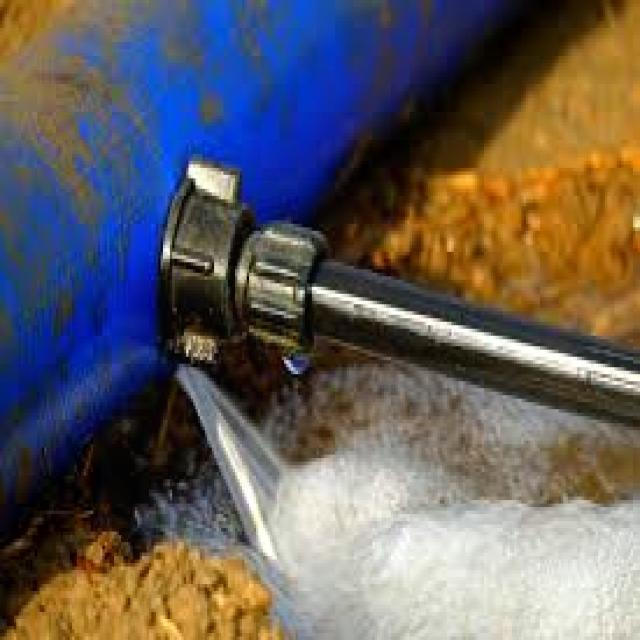corrosion: (126, 310, 242, 465)
